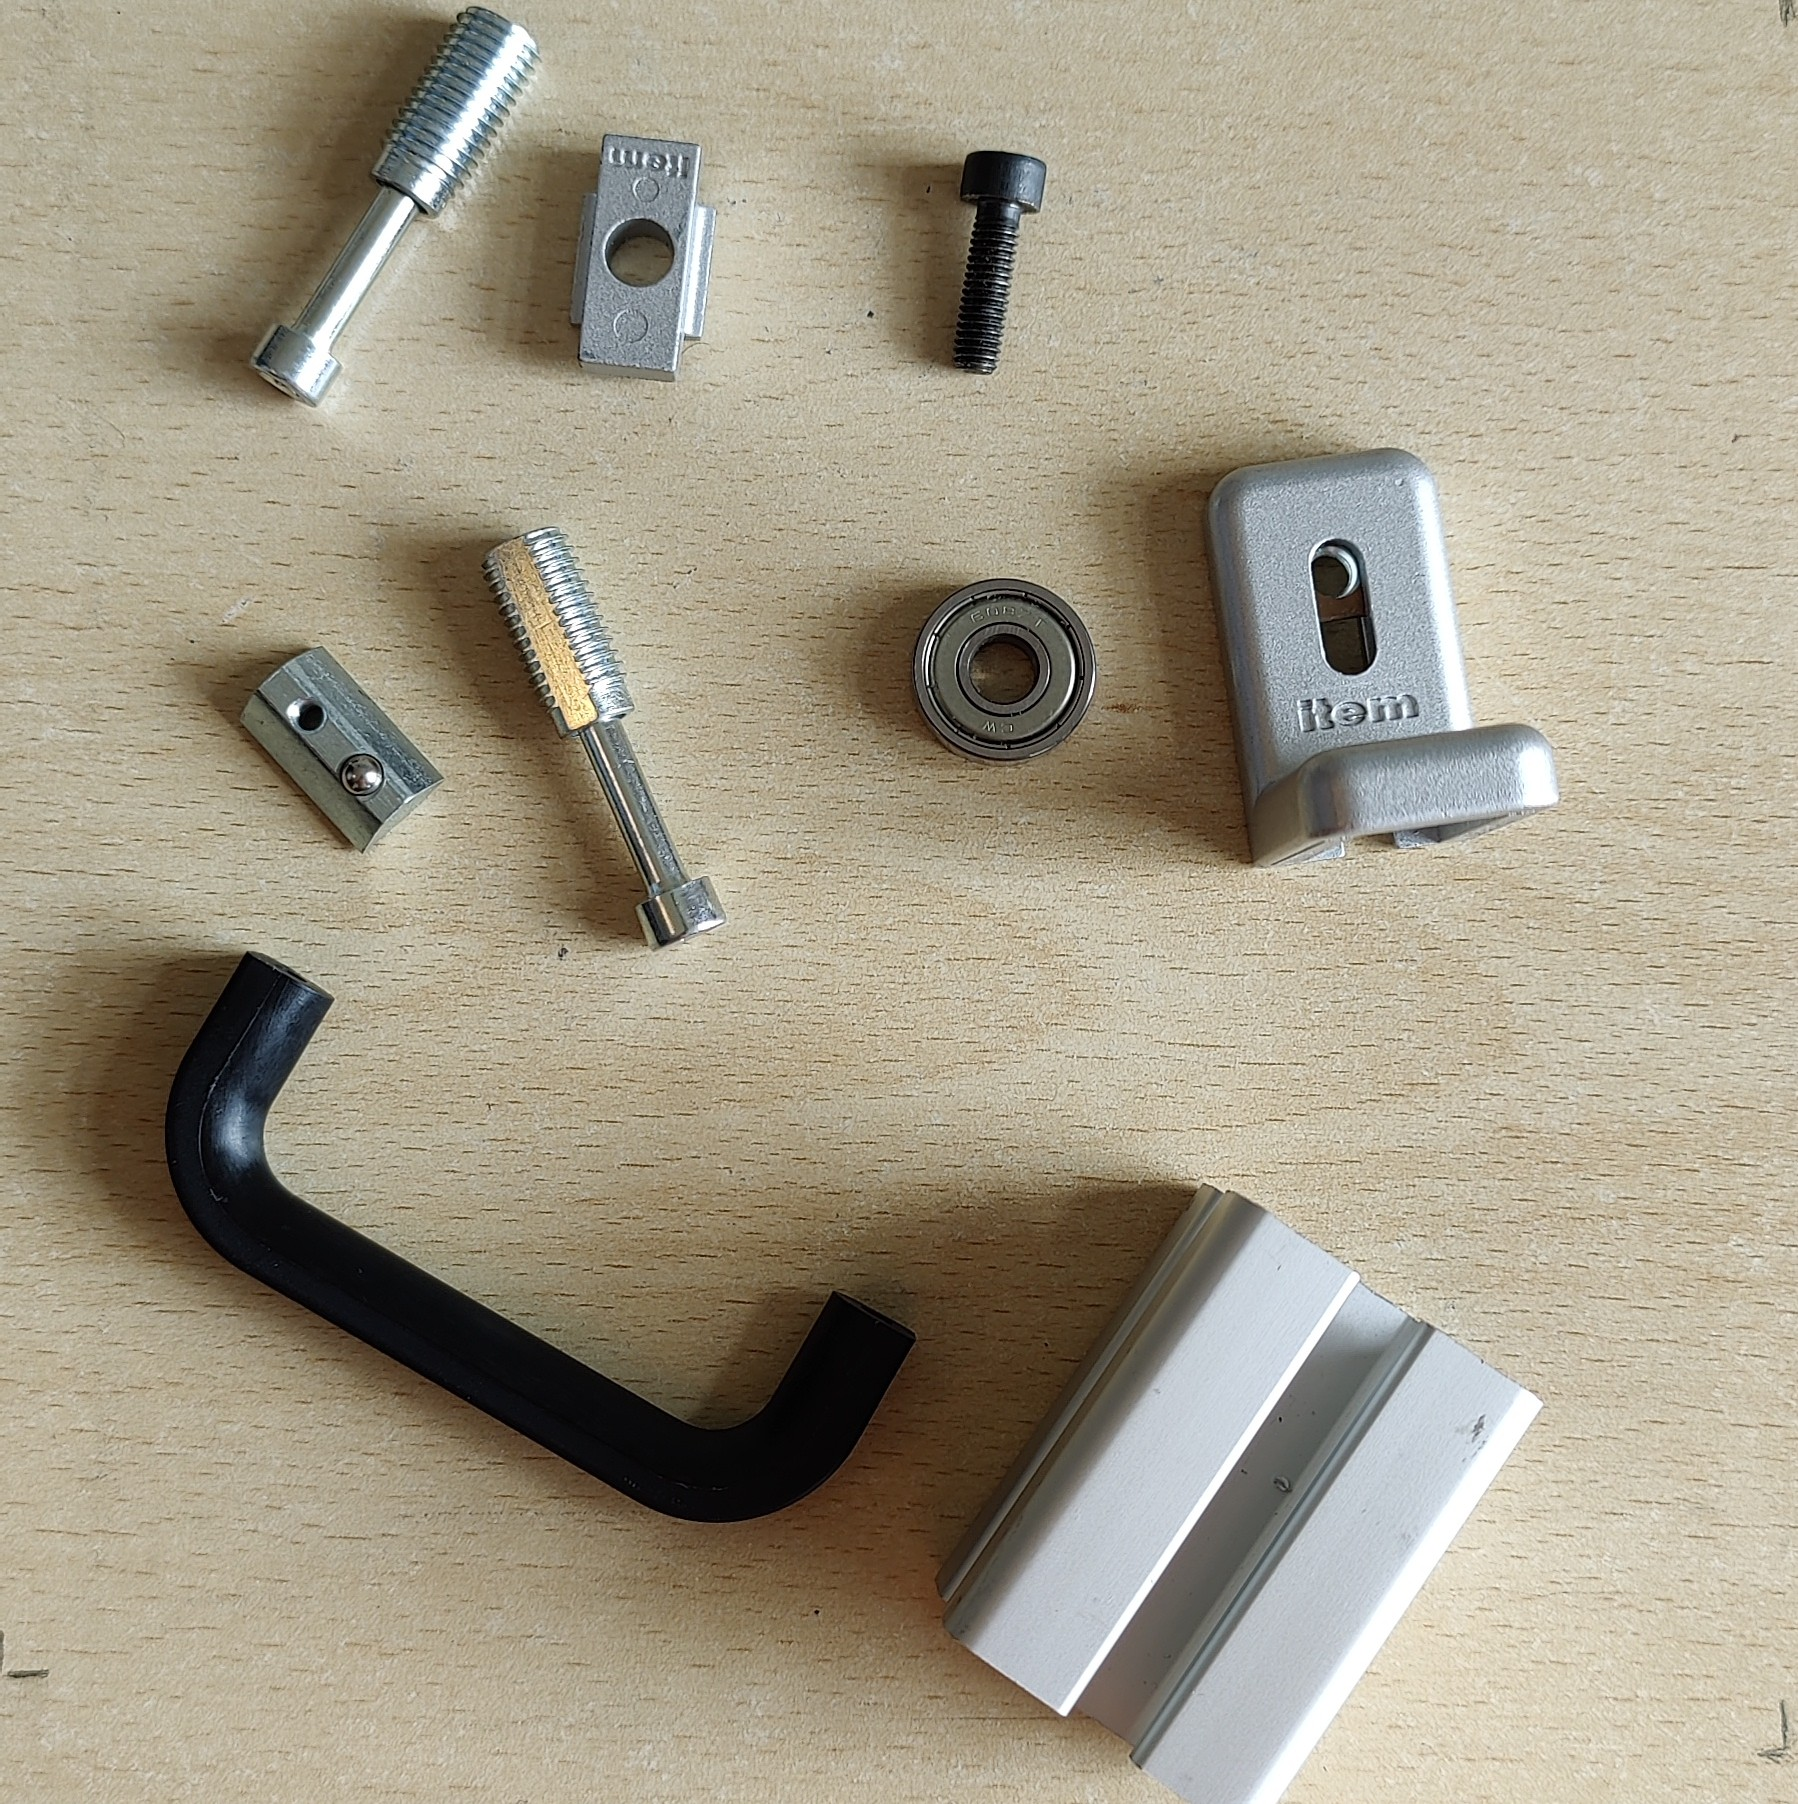Aluminium Extension: (934, 1174, 1544, 1804)
Ball Bearing: (907, 574, 1100, 767)
Multiwinkel: (1204, 444, 1563, 871)
Pull Handle: (160, 946, 920, 1526)
Shoulder Socket Head Cap Screw: (244, 2, 543, 408), (481, 527, 729, 955)
Socket Head Cap Screw: (945, 148, 1050, 379)
T Nut Square: (565, 127, 718, 385)
T Spring Nut: (235, 642, 446, 859)
